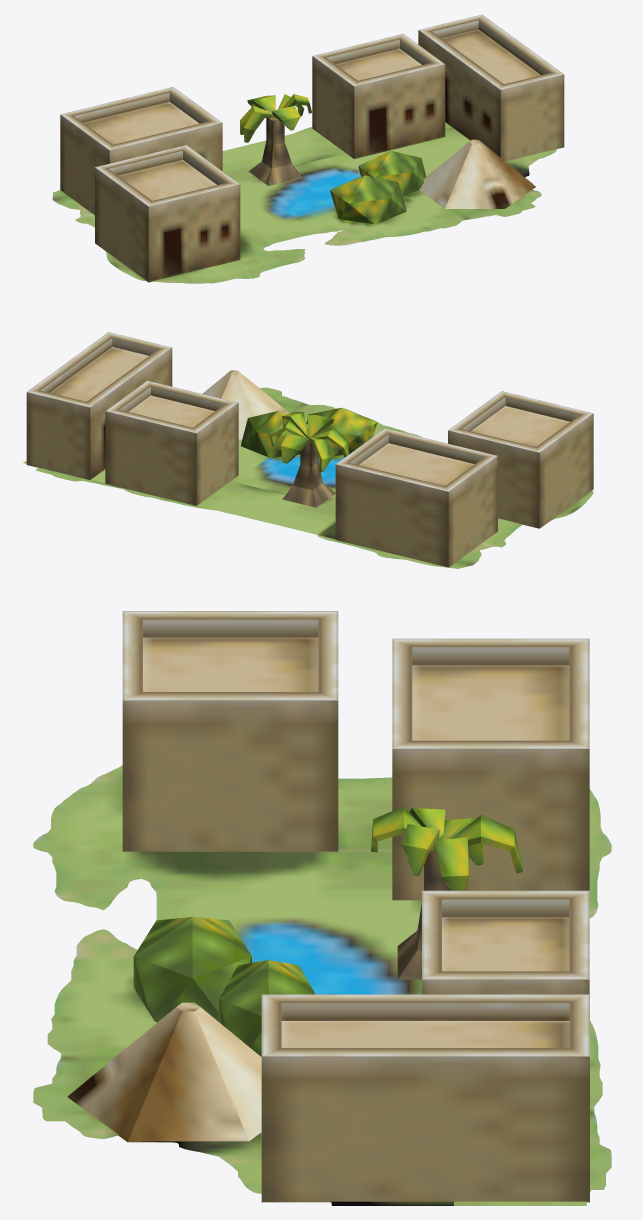
The model's file is Poly_World_Map_Town_House_10.obj.
3 views of the same model, one above another, from view 1: azimuth 30°, elevation 25°; view 2: azimuth 150°, elevation 25°; view 3: azimuth 270°, elevation 25° (orthographic). The views are drawn at different scales.
Parts seen in each view (by area): view 1: Cube.002_Cube.001, Plane, Cube.002_Cube.005, Cube.002_Cube.002, Cube.002_Cube.003, Cube.002_Cube.004; view 2: Cube.002_Cube.001, Plane, Cube.002_Cube.005, Cube.002_Cube.002, Cube.002_Cube.004, Cube.002_Cube.003; view 3: Cube.002_Cube.001, Plane, Cube.002_Cube.005, Cube.002_Cube.002, Cube.002_Cube.003, Cube.002_Cube.004.
Part boxes in pixels (bbox=[...]): Cube.002_Cube.001: bbox=[60, 14, 564, 282]; Plane: bbox=[52, 122, 556, 283]; Cube.002_Cube.005: bbox=[248, 117, 426, 224]; Cube.002_Cube.002: bbox=[247, 95, 300, 130]; Cube.002_Cube.003: bbox=[243, 94, 304, 142]; Cube.002_Cube.004: bbox=[240, 94, 311, 134]; Cube.002_Cube.001: bbox=[26, 332, 593, 567]; Plane: bbox=[23, 387, 593, 568]; Cube.002_Cube.005: bbox=[241, 407, 377, 507]; Cube.002_Cube.002: bbox=[281, 415, 334, 463]; Cube.002_Cube.004: bbox=[282, 412, 331, 472]; Cube.002_Cube.003: bbox=[269, 420, 348, 457]; Cube.002_Cube.001: bbox=[67, 611, 589, 1202]; Plane: bbox=[33, 765, 611, 1205]; Cube.002_Cube.005: bbox=[133, 850, 450, 1056]; Cube.002_Cube.002: bbox=[371, 806, 522, 873]; Cube.002_Cube.003: bbox=[409, 808, 469, 890]; Cube.002_Cube.004: bbox=[401, 818, 483, 875].
Size of the model in its own units: 1.6 by 0.2549 by 0.9.
1 material, 1 textured.
